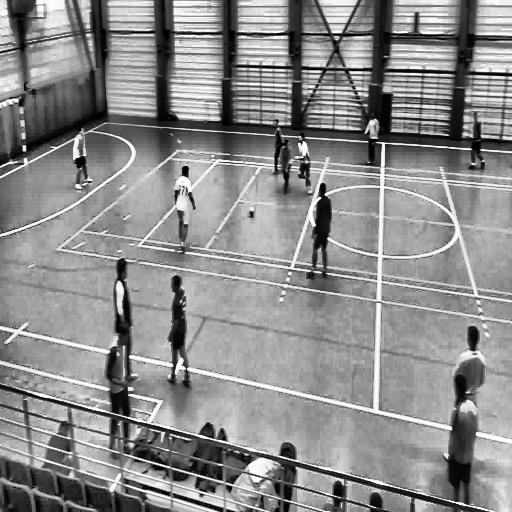ball: (248, 207, 256, 219)
player: (444, 325, 486, 468), (446, 368, 477, 510), (104, 322, 132, 460), (114, 258, 139, 395), (165, 276, 193, 392), (306, 180, 333, 284), (174, 161, 197, 253), (71, 122, 94, 192), (466, 107, 489, 172), (294, 131, 313, 196), (364, 108, 382, 170), (270, 116, 288, 176), (279, 139, 292, 200)
